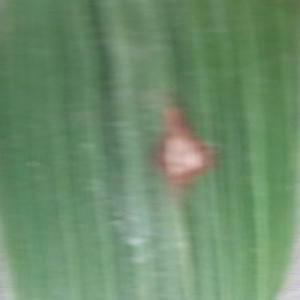1 RiceBlast: (149, 94, 228, 211)
